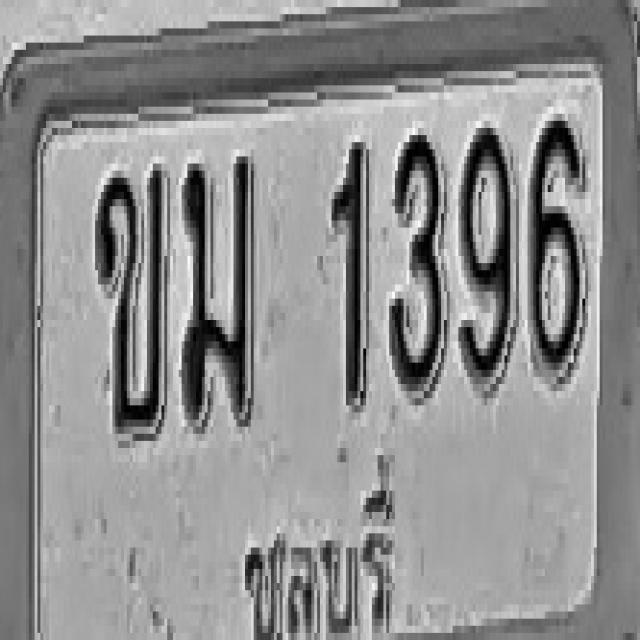1: (330, 139, 368, 409)
11KhorKhai: (92, 164, 170, 438)
3: (389, 128, 444, 391)
42MorMa: (177, 150, 256, 433)
6: (529, 114, 584, 377)
9: (460, 121, 512, 384)
Chonburi: (239, 468, 408, 640)
